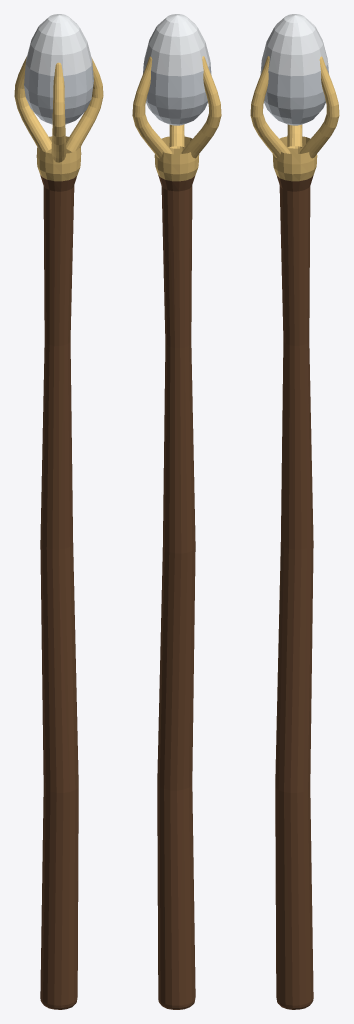
File: PropStaff.obj
The picture shows the model from 3 angles, left to right: view 1: azimuth 30°, elevation 25°; view 2: azimuth 210°, elevation 25°; view 3: azimuth 330°, elevation 25°; orthographic projection.
Bounding box in the file's own units: 0.389 × 4.95 × 0.404.
